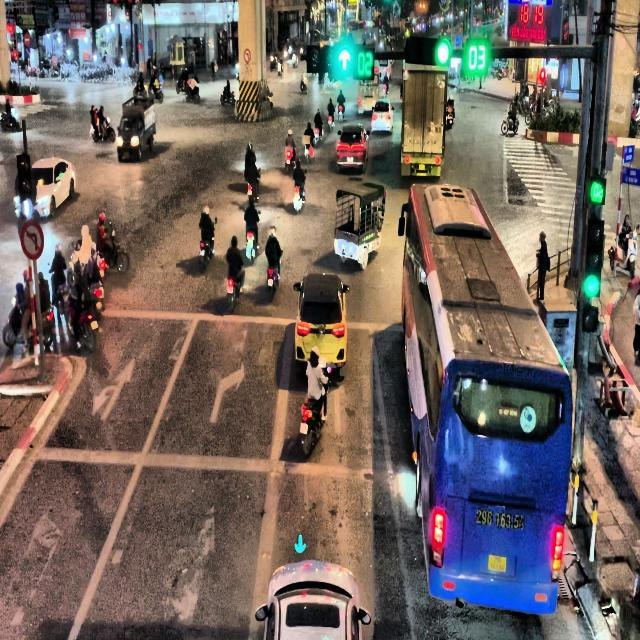lisence_plate: (473, 503, 526, 533), (487, 552, 507, 574)
